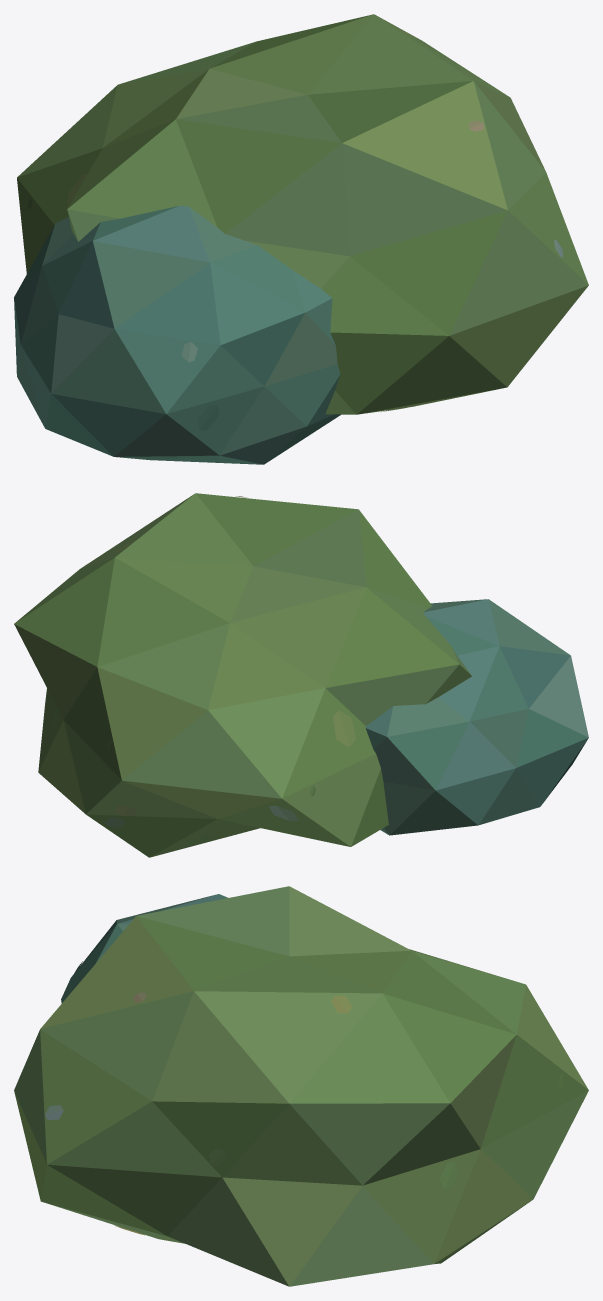
Rendered from HK_Shrub.glb.
The picture shows the model from 3 angles, top to bottom: view 1: azimuth 30°, elevation 25°; view 2: azimuth 150°, elevation 25°; view 3: azimuth 270°, elevation 25°; orthographic projection. The views are drawn at different scales.
Parts seen in each view (by area): view 1: HK_Shrub; view 2: HK_Shrub; view 3: HK_Shrub.
Boxes of the visible parts, x1,y1,x2,y2 form: HK_Shrub: [14, 14, 588, 464]; HK_Shrub: [14, 493, 588, 857]; HK_Shrub: [14, 886, 588, 1286].
Size of the model in its own units: 1.81 by 0.9934 by 1.63.
